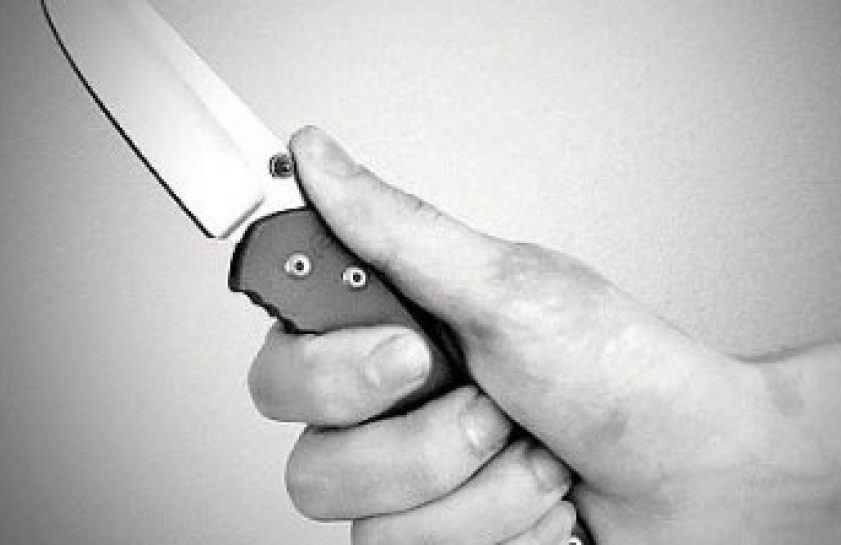knife: (27, 1, 579, 497)
